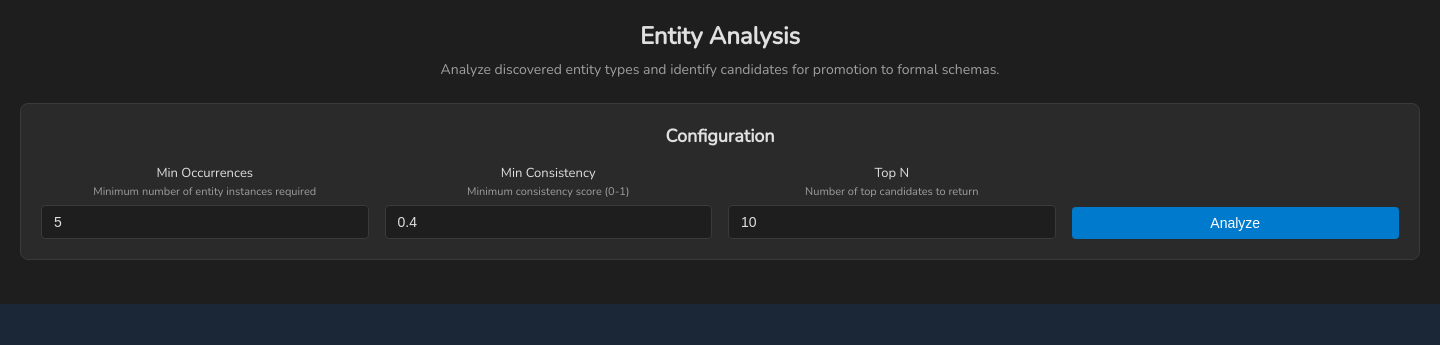
Test: EntityAnalysis Component › 5.5: Loading State › disables configuration inputs while loading
Click the button "Analyze".
click(1235, 223)  # box [1072,207,1399,239]
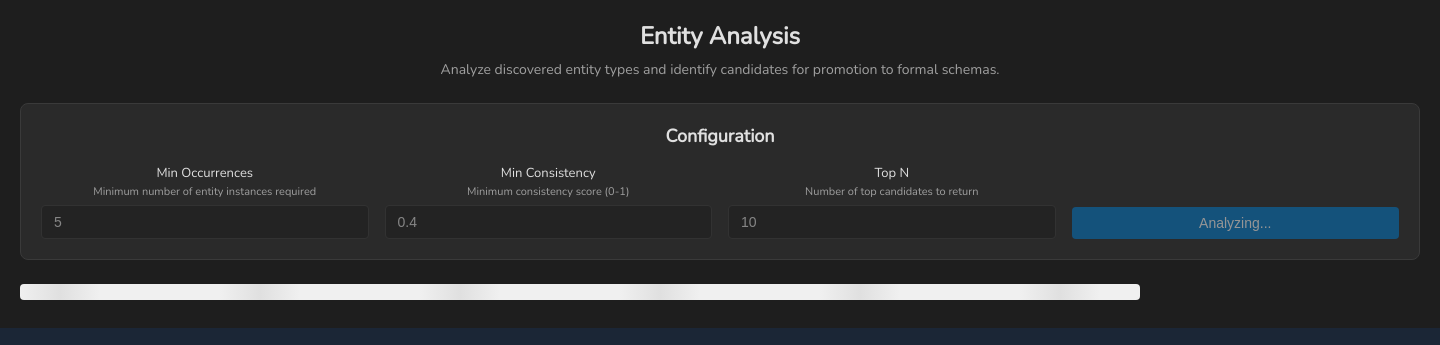
Check: the number field labelled "Min Occurrences Minimum number of entity instances required" is disabled, box [41,205,368,239]
Check: the number field labelled "Min Consistency Minimum consistency score (0-1)" is disabled, box [384,205,712,239]
Check: the number field labelled "Top N Number of top candidates to return" is disabled, box [728,205,1056,239]
